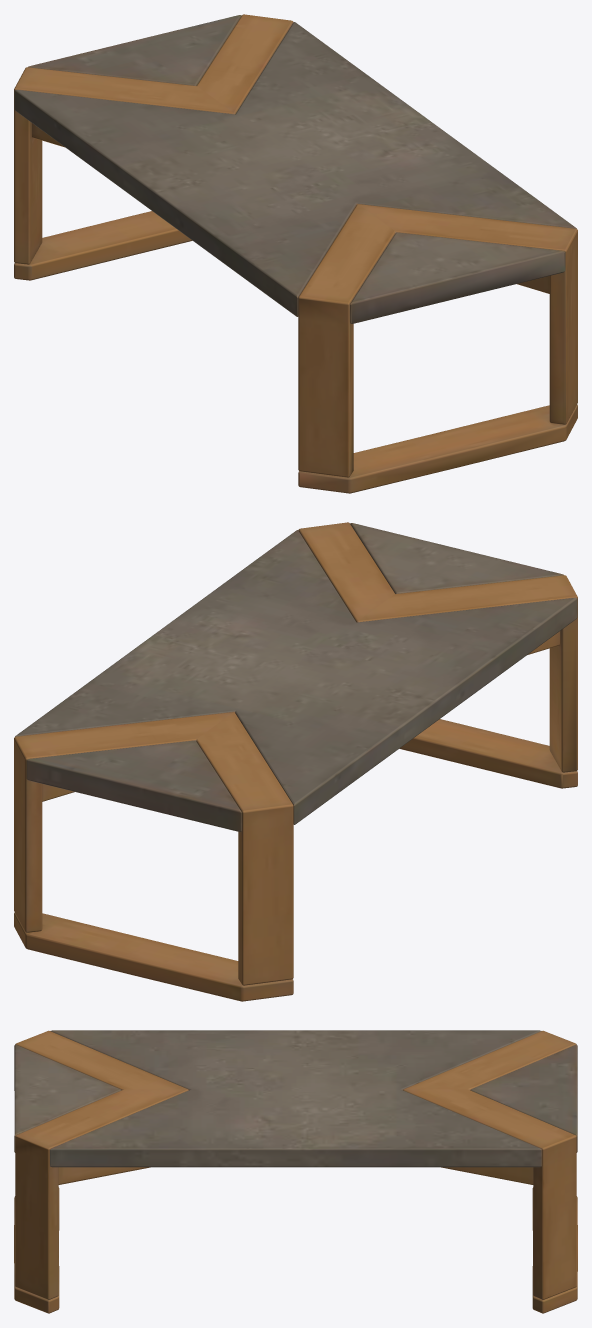
The model's file is prop-modern-coffee-table-01.glb.
3 renders of one model, top to bottom at view 1: azimuth 30°, elevation 25°; view 2: azimuth 150°, elevation 25°; view 3: azimuth 270°, elevation 25°, orthographic. The views are drawn at different scales.
Parts seen in each view (by area): view 1: modern_coffee_table_01; view 2: modern_coffee_table_01; view 3: modern_coffee_table_01.
Part boxes in pixels (x1,y1,x2,y2): modern_coffee_table_01: (14,14,577,493); modern_coffee_table_01: (14,522,577,1001); modern_coffee_table_01: (14,1030,577,1313).
Bounding box in the file's own units: 0.5999 × 0.39 × 1.2.
Materials: 1 (1 with a texture image).
